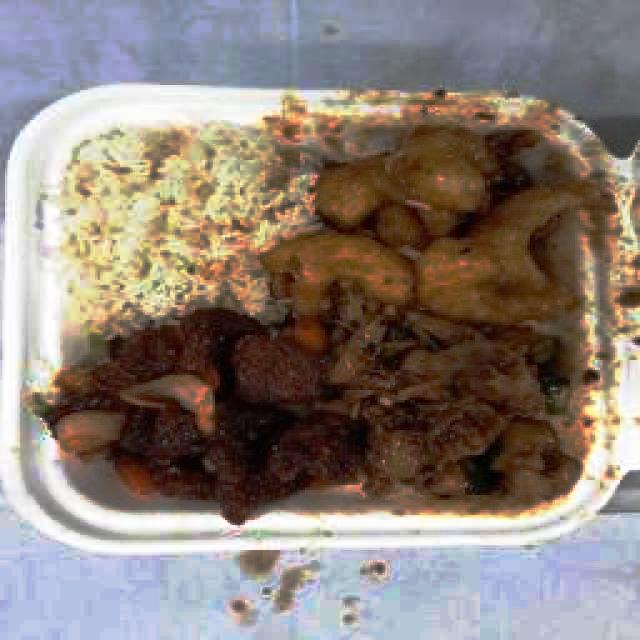Beijing Beef: (51, 316, 588, 488)
rice: (74, 152, 269, 298)
